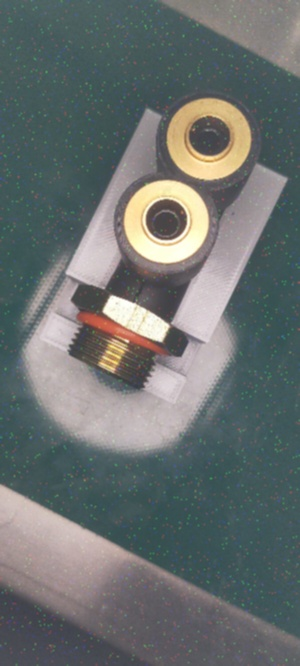craze: (131, 277, 150, 306)
